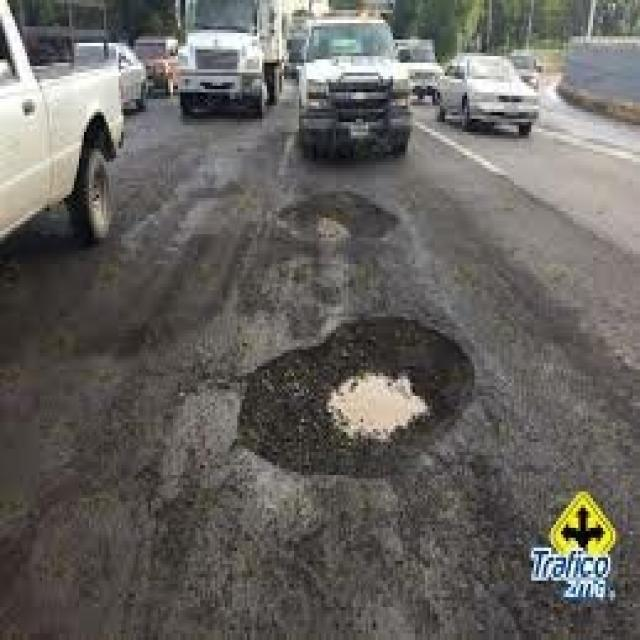Buraco: (224, 312, 489, 484), (272, 187, 406, 247)
